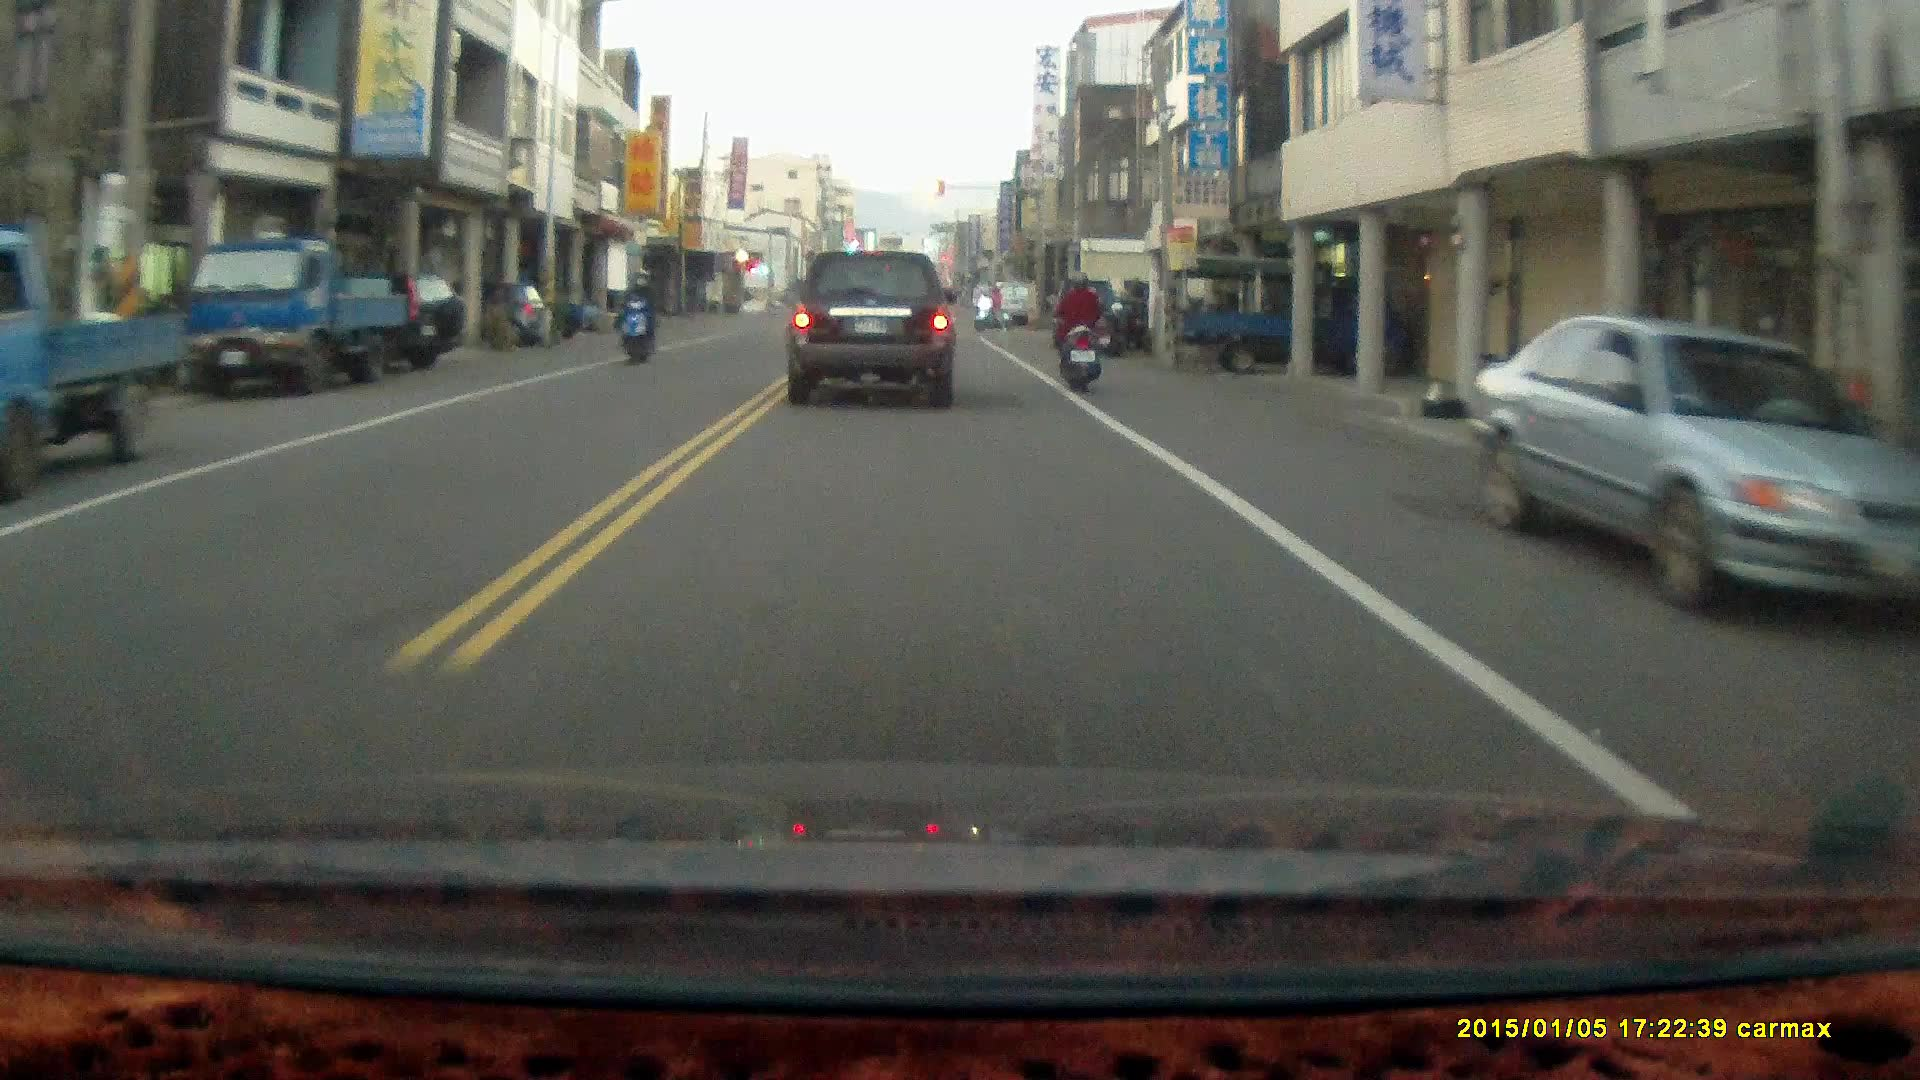rider: (1053, 274, 1104, 399), (611, 266, 657, 366), (972, 286, 1011, 335)
vehicle: (1463, 315, 1913, 629), (1, 234, 219, 488), (182, 247, 406, 400), (1171, 262, 1427, 387), (784, 251, 959, 415), (332, 276, 470, 372)
